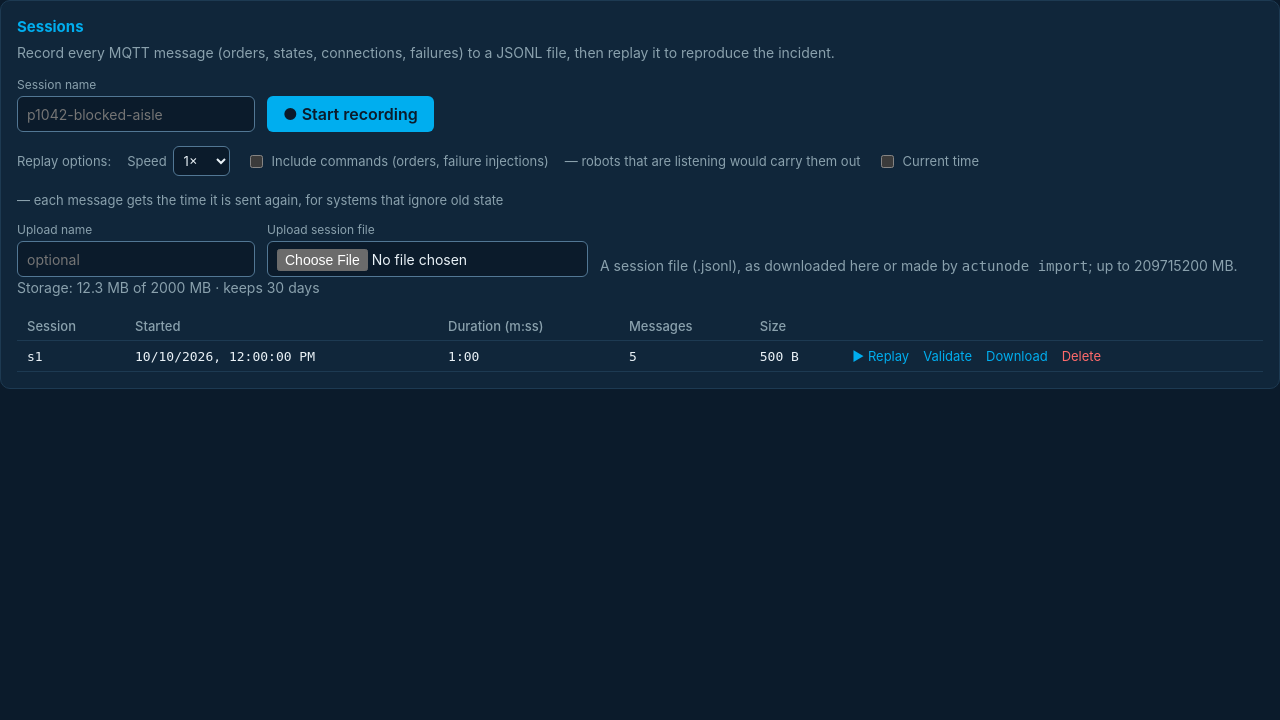
Test: sessions: validate, upload, storage (D-40, D-41) › does not warn about duplicate keys when one message raises the same rule twice
Click the button with aria-label "Validate session s1". click: x=948, y=356
box: x1=923 y1=348 x2=972 y2=364
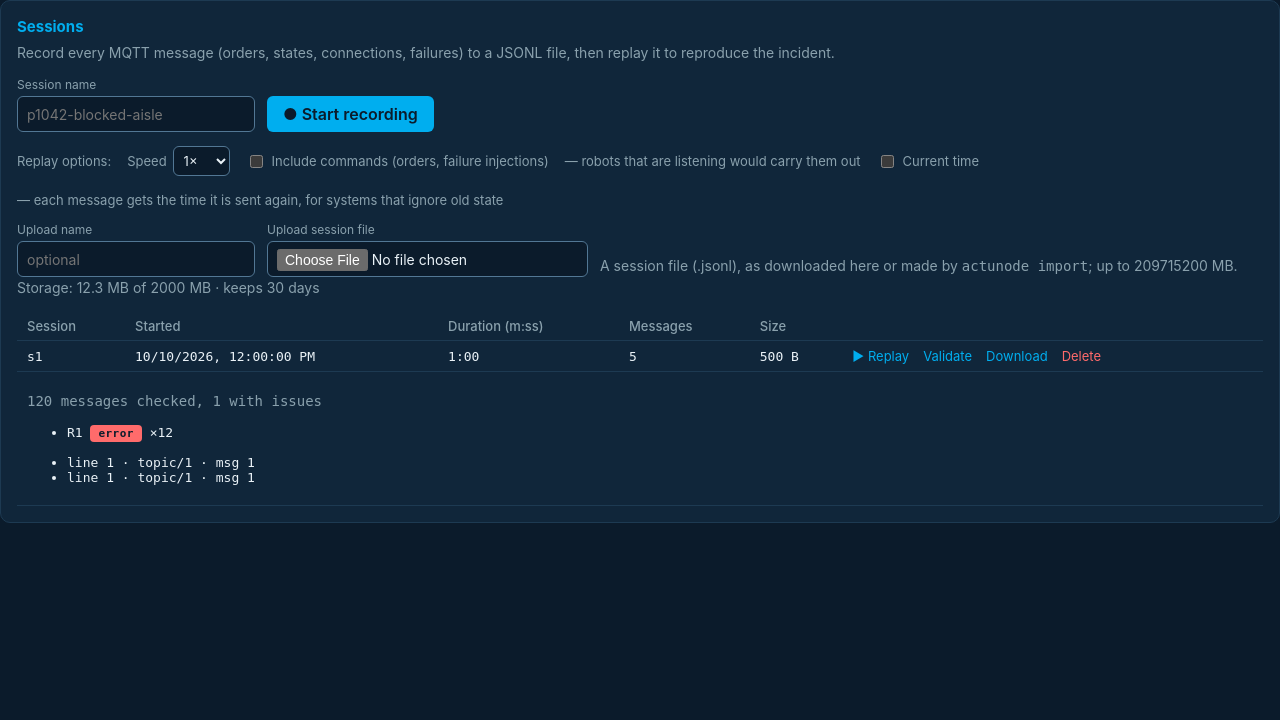
Result: the text "120 messages checked, 1 with issues" is shown at x1=27 y1=393 x2=322 y2=409
